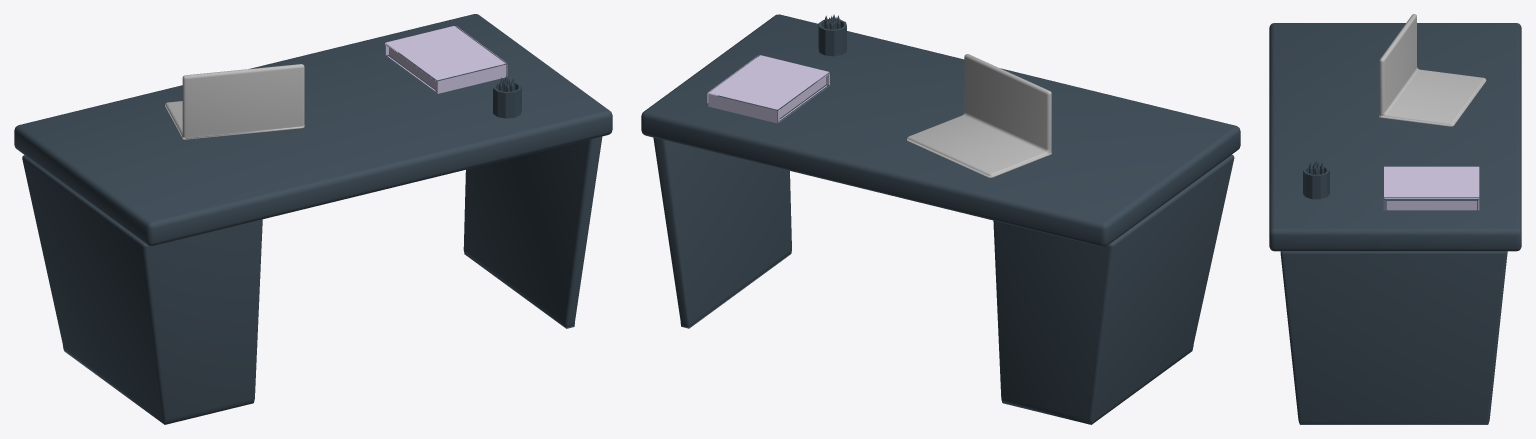
The model's file is Desk.fbx.
3 renders of one model, left to right at view 1: azimuth 30°, elevation 25°; view 2: azimuth 150°, elevation 25°; view 3: azimuth 270°, elevation 25°, orthographic. The views are drawn at different scales.
Visible parts, largest first — view 1: desk; view 2: desk; view 3: desk.
Part boxes in pixels (x1,y1,x2,y2): desk: [14, 14, 612, 424]; desk: [641, 14, 1240, 424]; desk: [1269, 14, 1521, 424].
Bounding box in the file's own units: 270 × 158 × 137.
